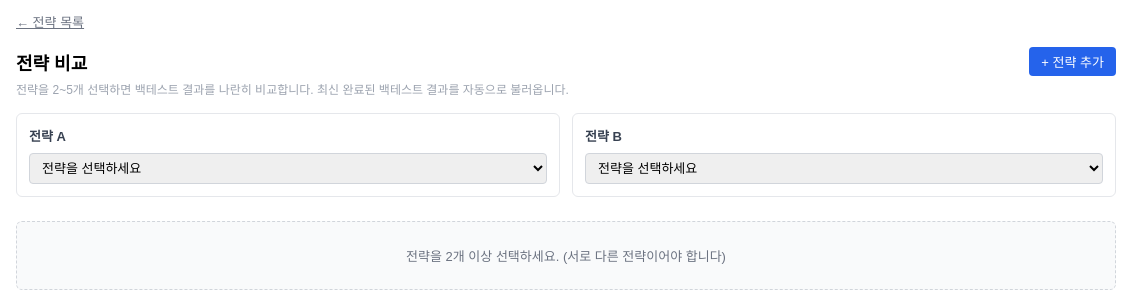
Test: StrategyComparePage › + 전략 추가 버튼 클릭 시 슬롯 증가
Expected: the dropdown with test id "compare-left" is shown, [29,153,547,184]
Expected: the dropdown with test id "compare-right" is shown, [585,153,1103,184]
Note: + 전략 추가 클릭
What coordinates should you click on to do the following:
click the button "+ 전략 추가"
I would click on:
 (1073, 62)
Its box is [1029,47,1116,76].
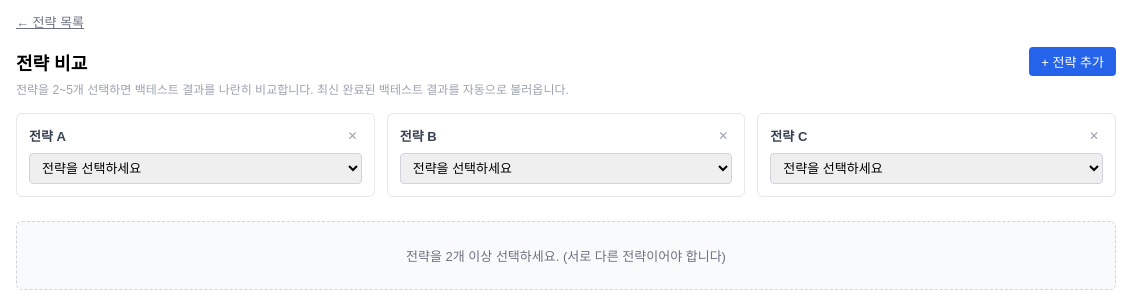
Expected: the dropdown with test id "compare-slot-2" is shown, [770,153,1103,184]
